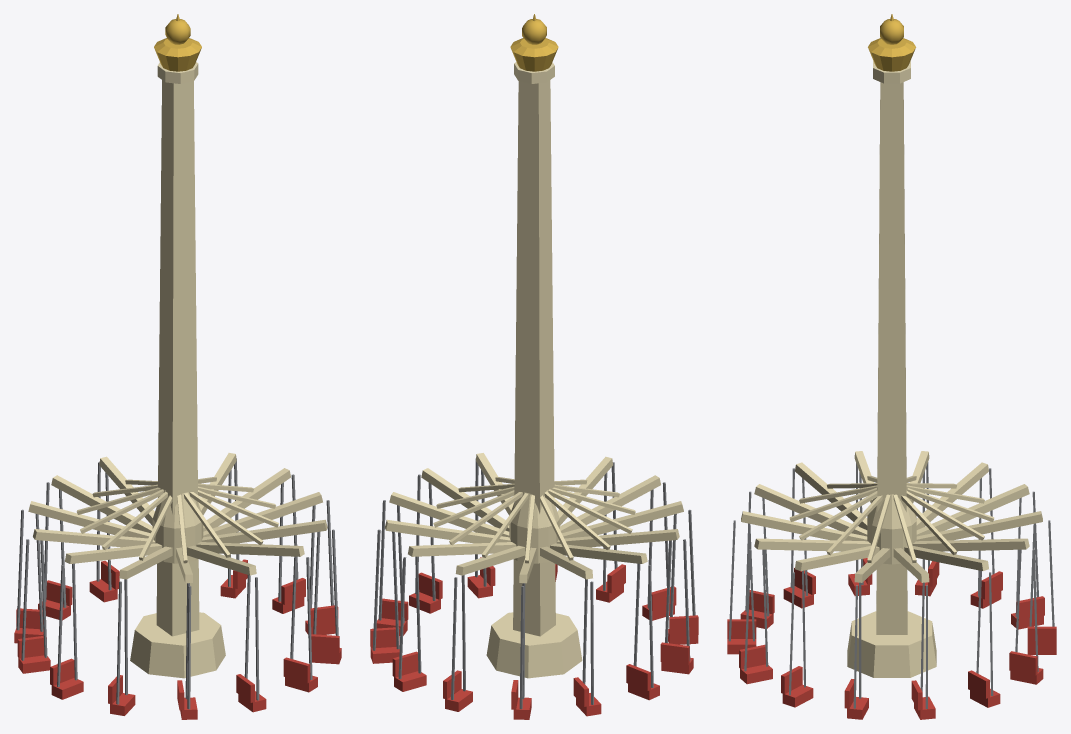
File: nyc-brooklyn-flyer.glb
3 renders of one model, left to right at view 1: azimuth 30°, elevation 25°; view 2: azimuth 150°, elevation 25°; view 3: azimuth 270°, elevation 25°, orthographic.
Parts seen in each view (by area): view 1: star, Brooklyn Flyer; view 2: star, Brooklyn Flyer; view 3: star, Brooklyn Flyer.
Part boxes in pixels (x1=…): star: x1=14, y1=453, x2=341, y2=719; Brooklyn Flyer: x1=130, y1=14, x2=225, y2=678; star: x1=370, y1=453, x2=698, y2=719; Brooklyn Flyer: x1=486, y1=14, x2=582, y2=678; star: x1=727, y1=451, x2=1056, y2=719; Brooklyn Flyer: x1=847, y1=14, x2=936, y2=677.
Bounding box in the file's own units: 13.46 × 29.4 × 13.6.
